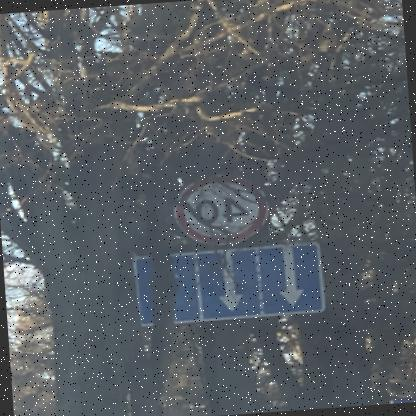speedlimit: (177, 170, 270, 246)
